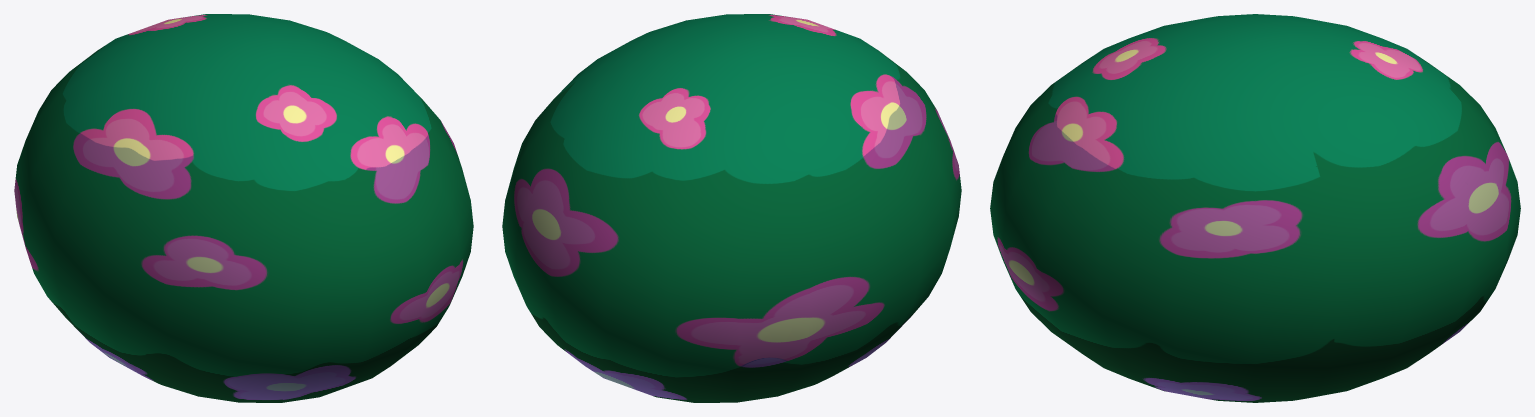
File: bushv1.fbx
3 views of the same model, side by side, from view 1: azimuth 30°, elevation 25°; view 2: azimuth 150°, elevation 25°; view 3: azimuth 270°, elevation 25° (orthographic). The views are drawn at different scales.
Visible parts, largest first — view 1: pSphere1; view 2: pSphere1; view 3: pSphere1.
Part boxes in pixels (<box>): pSphere1: <box>14,14,473,402</box>; pSphere1: <box>502,14,961,402</box>; pSphere1: <box>990,14,1520,402</box>.
Bounding box in the file's own units: 9.28 × 7.68 × 10.89.
1 material, 1 textured.
